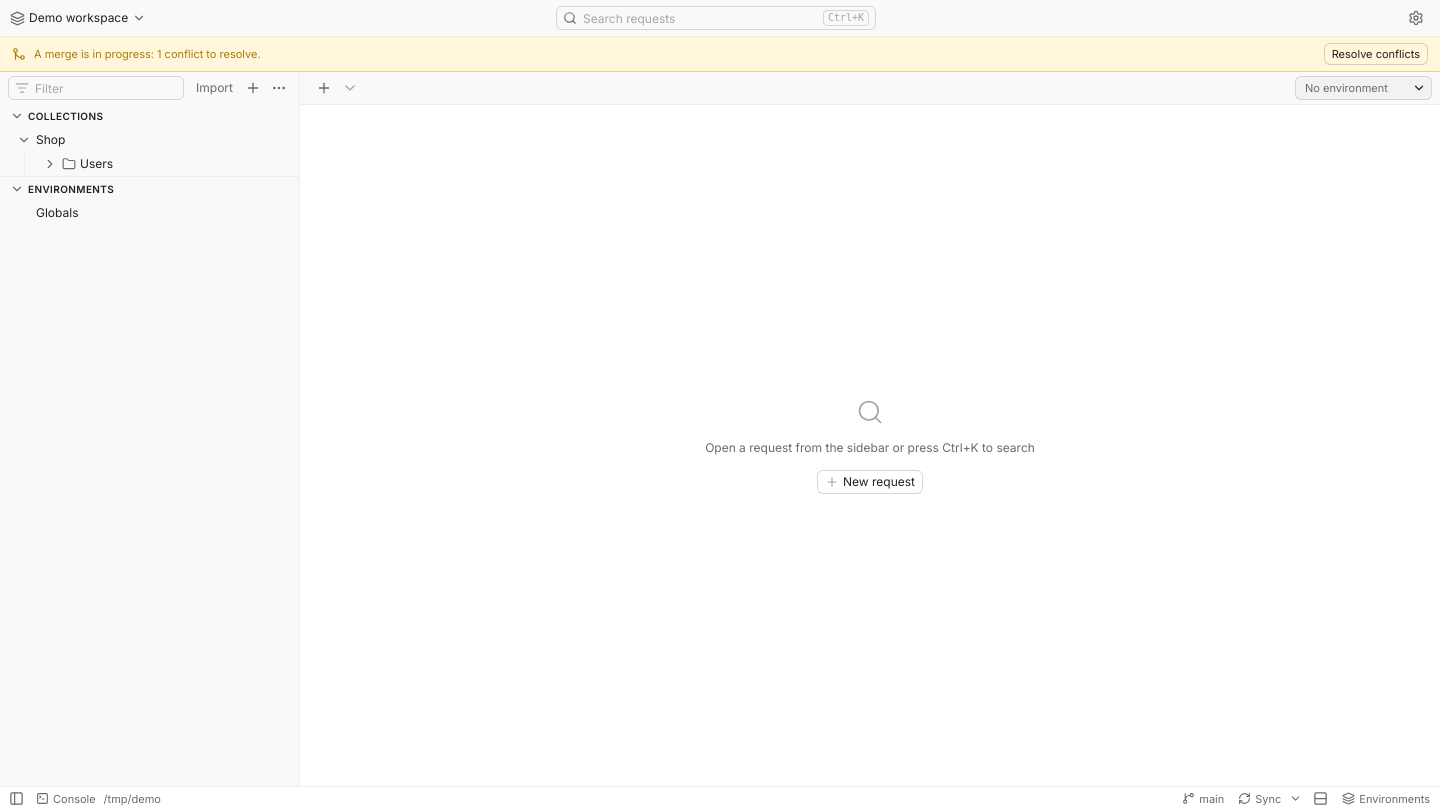
it: status bar indicator › during a merge: no change dot, Commit… disabled, and a Resolve conflicts banner
Expected: the text "main" is shown, left=1199, top=790, right=1224, bottom=806
Click the button named "More sync actions" at (1296, 798), box left=1287, top=786, right=1304, bottom=809
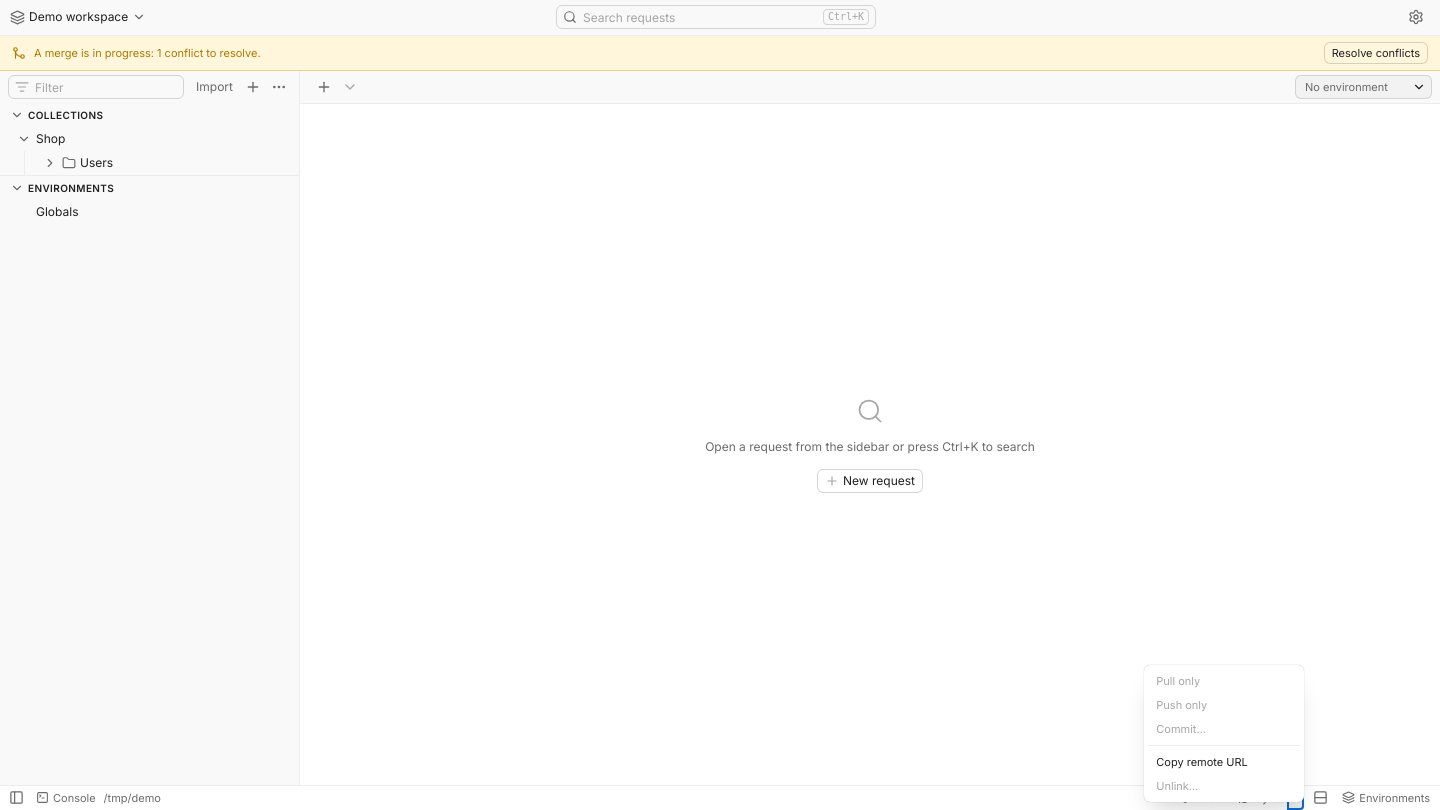
Now the menu item "Commit…" is disabled, box left=1148, top=717, right=1300, bottom=741
Press Escape
Click the button "Resolve conflicts" at (1376, 53), box left=1324, top=42, right=1428, bottom=64
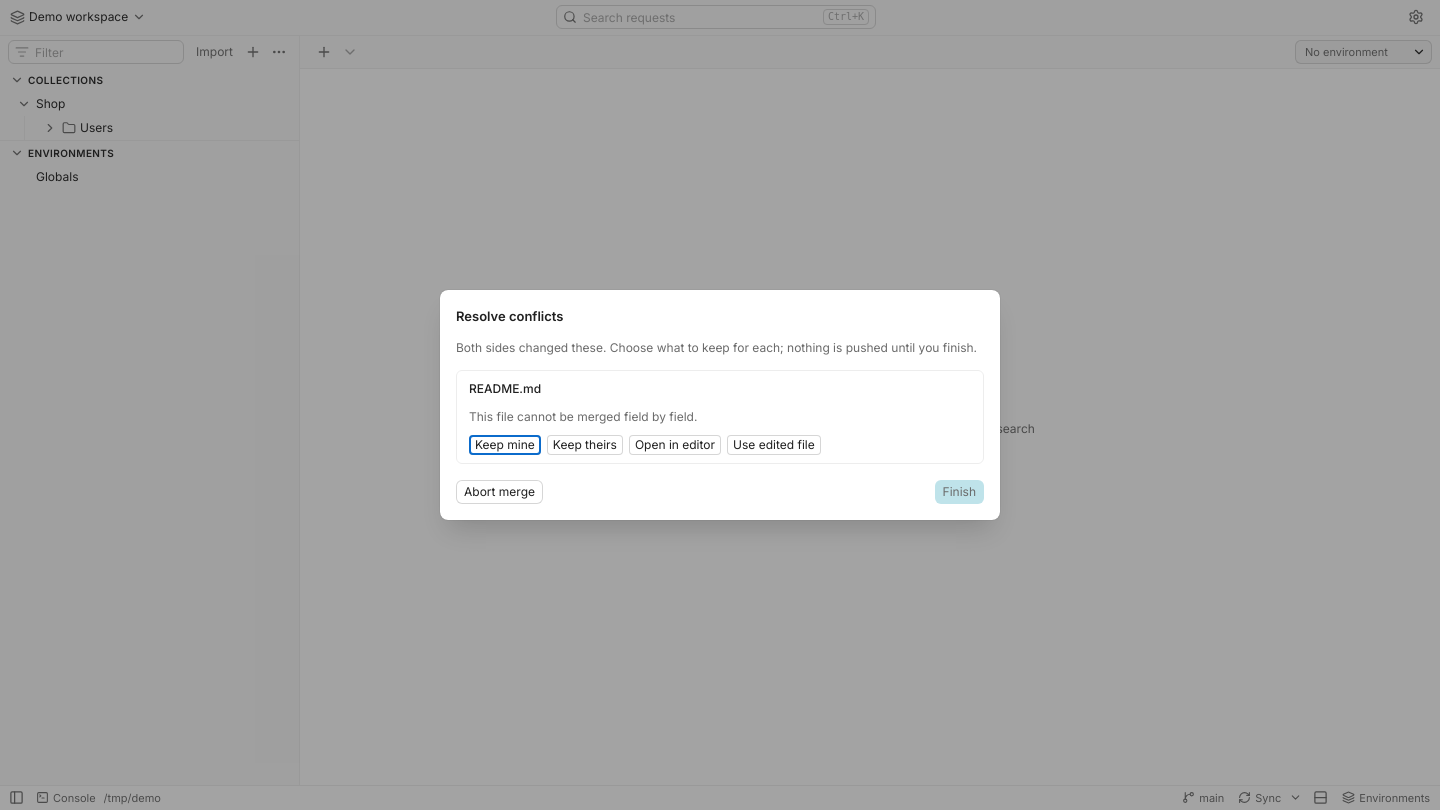
Now the dialog "Resolve conflicts" is shown, box left=440, top=290, right=1000, bottom=520
